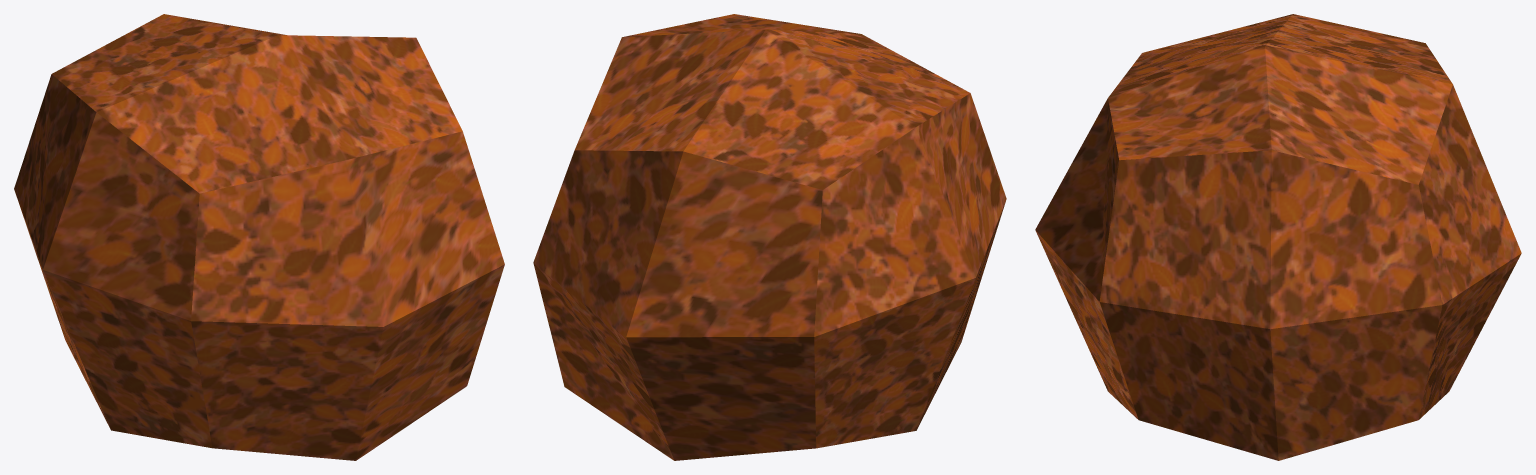
Rendered from bush_2.fbx.
The picture shows the model from 3 angles, left to right: view 1: azimuth 30°, elevation 25°; view 2: azimuth 150°, elevation 25°; view 3: azimuth 270°, elevation 25°; orthographic projection. The views are drawn at different scales.
Parts seen in each view (by area): view 1: Cube; view 2: Cube; view 3: Cube.
Boxes of the visible parts, left/top/right/bottom form: Cube: left=14, top=14, right=504, bottom=460; Cube: left=533, top=14, right=1006, bottom=460; Cube: left=1035, top=14, right=1521, bottom=460.
Size of the model in its own units: 166 by 137 by 174.
